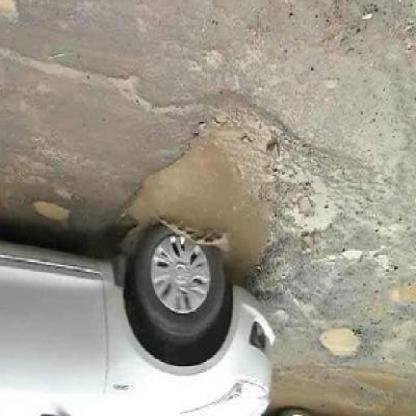pothole: (117, 97, 322, 310), (319, 330, 366, 363), (31, 199, 74, 227), (387, 278, 416, 316)
